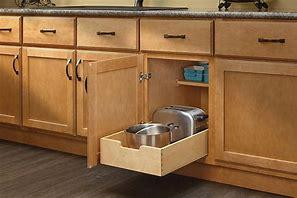cabinet_door: (213, 65, 297, 168), (88, 59, 142, 162), (76, 51, 137, 135), (23, 50, 76, 130), (215, 24, 297, 60), (139, 21, 210, 52), (77, 19, 136, 48), (0, 48, 21, 121), (24, 17, 75, 45), (0, 17, 21, 43)
handle: (256, 36, 289, 46), (162, 32, 187, 41), (75, 57, 83, 83), (64, 57, 72, 81), (95, 30, 117, 38), (11, 54, 19, 76), (39, 28, 58, 35), (0, 28, 12, 34)
